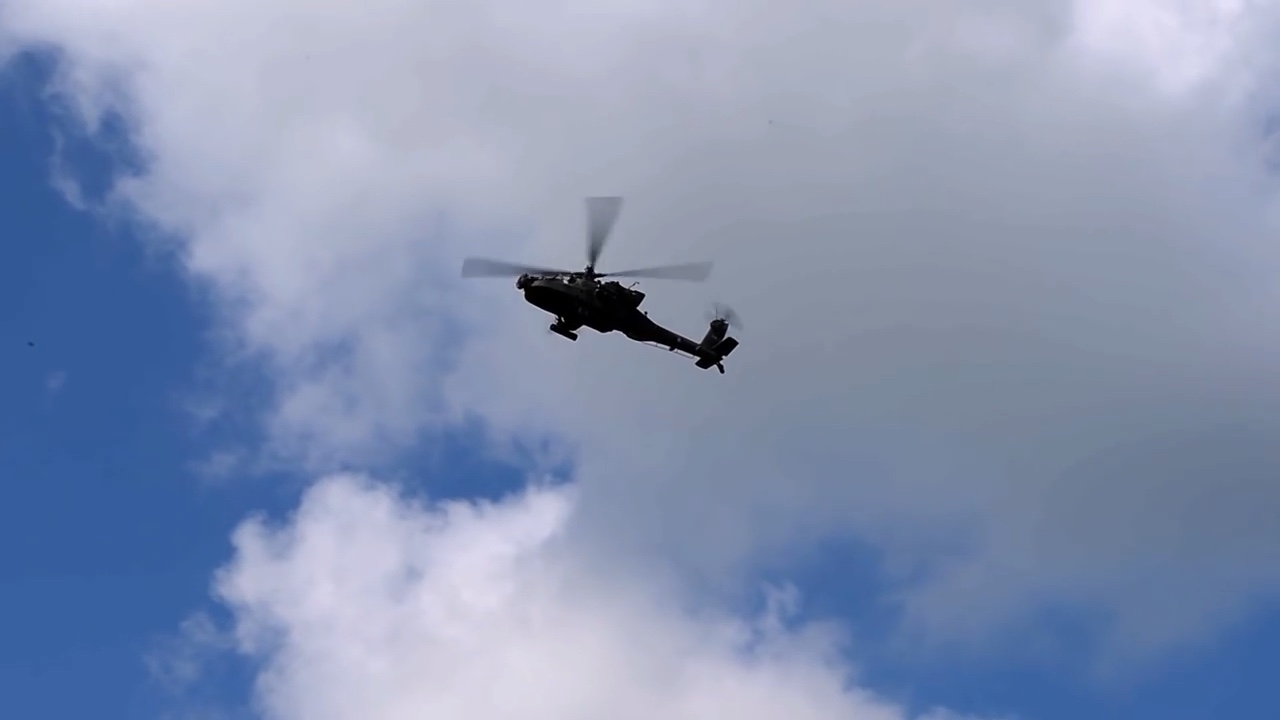ah64: (458, 194, 745, 377)
